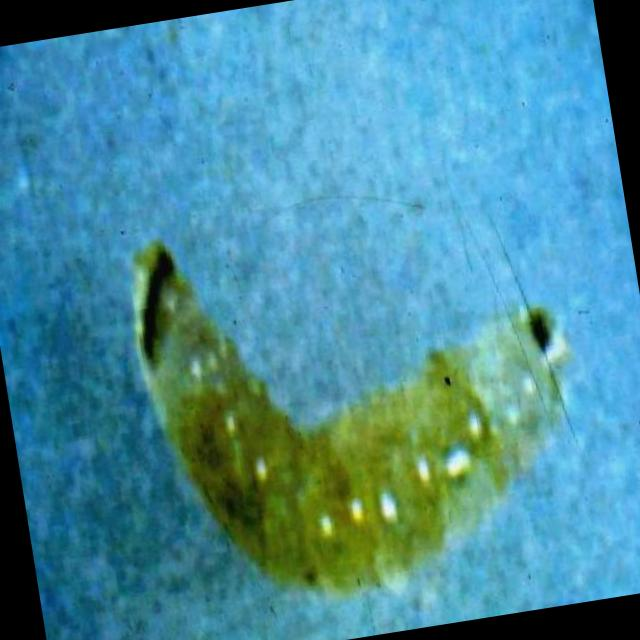whorl-maggot: (134, 229, 563, 600)
